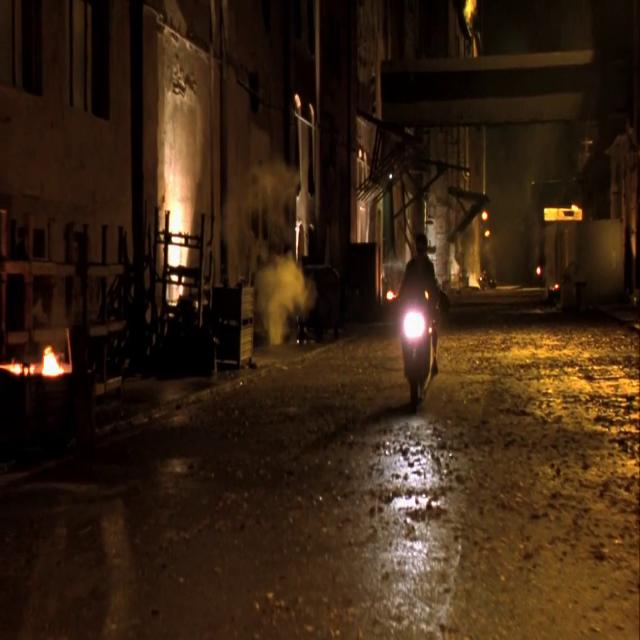Motorbike: (344, 229, 498, 420)
